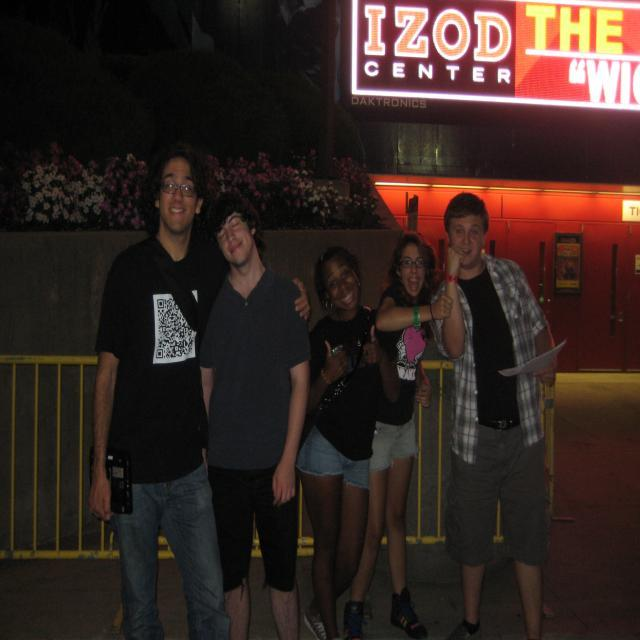qr-code: (156, 298, 195, 358)
